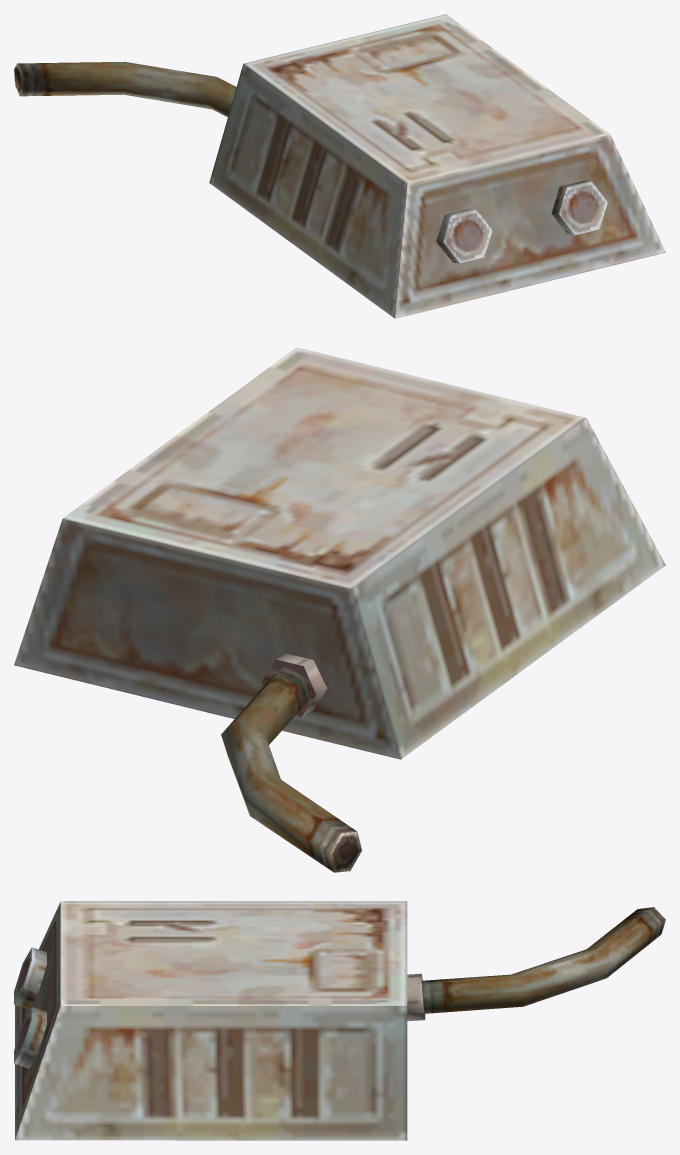
The model's file is tyt_arch_fleshraider_junk_13.glb.
3 views of the same model, one above another, from view 1: azimuth 30°, elevation 25°; view 2: azimuth 150°, elevation 25°; view 3: azimuth 270°, elevation 25° (orthographic). The views are drawn at different scales.
Visible parts, largest first — view 1: tyt_arch_fleshraider_junk_13; view 2: tyt_arch_fleshraider_junk_13; view 3: tyt_arch_fleshraider_junk_13.
Part boxes in pixels (left/top/right/bottom): tyt_arch_fleshraider_junk_13: left=14, top=14, right=665, bottom=318; tyt_arch_fleshraider_junk_13: left=14, top=347, right=665, bottom=872; tyt_arch_fleshraider_junk_13: left=14, top=901, right=665, bottom=1140.
Size of the model in its own units: 0.1037 by 0.0313 by 0.1581.
Materials: 1 (1 with a texture image).
